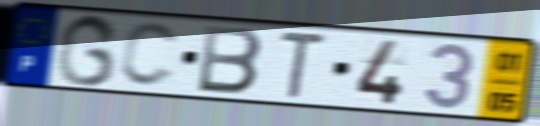3: (421, 41, 476, 113)
4: (353, 37, 406, 106)
B: (195, 23, 266, 97)
C: (116, 20, 183, 90)
G: (53, 12, 122, 89)
T: (277, 28, 330, 101)
